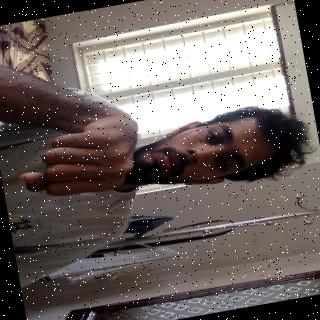Yes: (2, 84, 171, 210)
